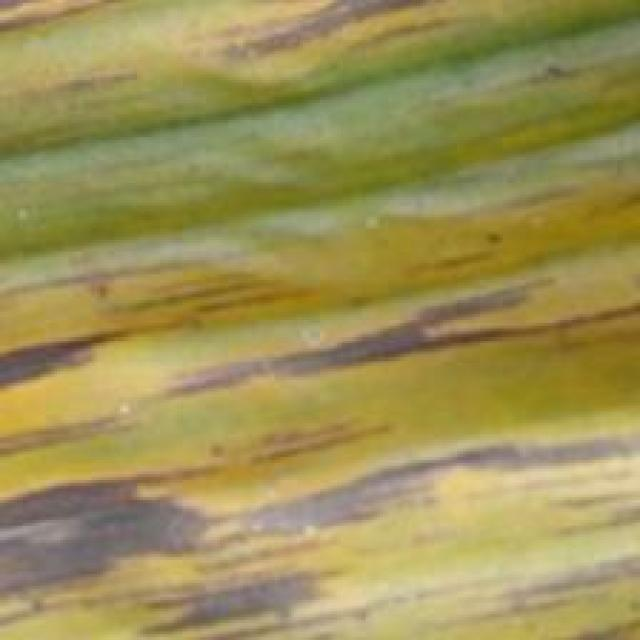Early_leaf_spot: (0, 438, 640, 637), (162, 280, 640, 390), (0, 296, 155, 400), (214, 0, 418, 62), (19, 67, 157, 101), (0, 0, 89, 43)
